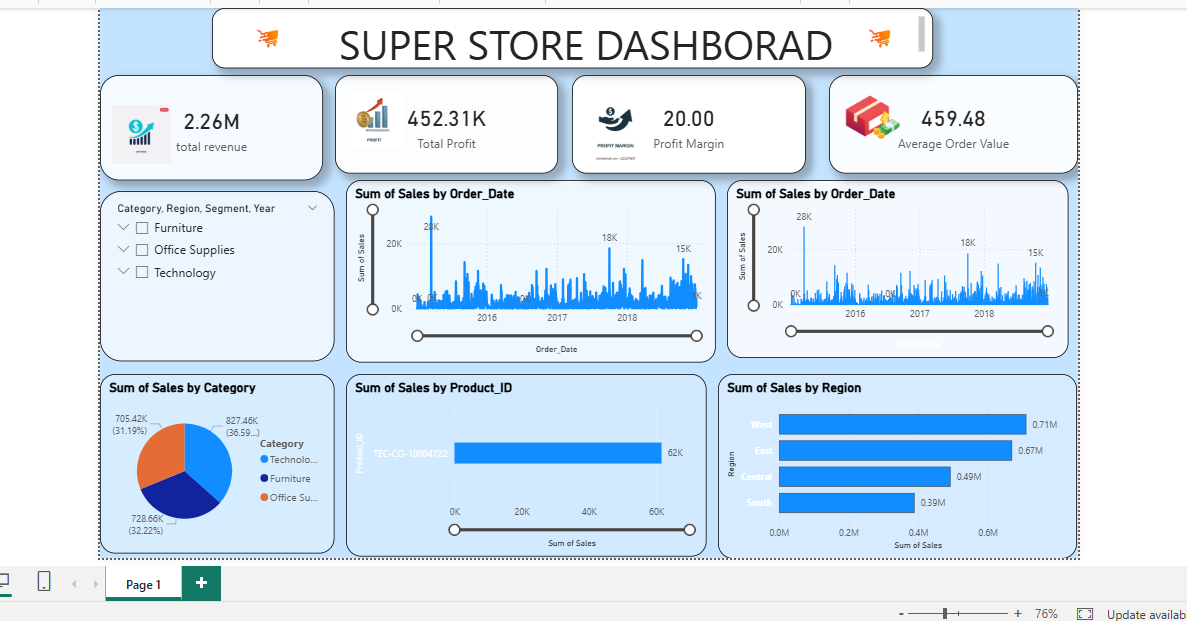

The page's visual inventory and layout, read from the dashboard file:
{"tool":"powerbi","page":{"name":"Page 1","canvas":[1280,720],"ordinal":0},"visuals":[{"type":"lineChart","fields":{"Category":["superstore_final_dataset (1).Order_Date"],"Y":["Sum(superstore_final_dataset (1).Sales)"]},"box":[322.5,225.1,483.8,238.5],"z":0},{"type":"clusteredBarChart","fields":{"Category":["superstore_final_dataset (1).Product_ID"],"Y":["Sum(superstore_final_dataset (1).Sales)"]},"box":[322.5,478.7,472,238.5],"z":1000},{"type":"clusteredBarChart","fields":{"Category":["superstore_final_dataset (1).Region"],"Y":["Sum(superstore_final_dataset (1).Sales)"]},"box":[809.7,478.7,470.3,241.9],"z":2000},{"type":"pieChart","fields":{"Category":["superstore_final_dataset (1).Category"],"Y":["Sum(superstore_final_dataset (1).Sales)"]},"box":[0,478.7,307.4,235.2],"z":3000},{"type":"clusteredColumnChart","fields":{"Category":["superstore_final_dataset (1).Order_Date"],"Y":["Sum(superstore_final_dataset (1).Sales)"]},"box":[821.4,225.1,446.8,233.5],"z":4000},{"type":"slicer","fields":{"Values":["superstore_final_dataset (1).Category","superstore_final_dataset (1).Region","superstore_final_dataset (1).Segment","superstore_final_dataset (1).Order_Date.Variation.Date Hierarchy.Year"]},"box":[0,240.2,307.4,223.4],"z":5000},{"type":"card","fields":{"Values":["superstore_final_dataset (1).total revenue"]},"box":[0,87.3,292.3,137.7],"z":6000},{"type":"card","fields":{"Values":["superstore_final_dataset (1).Total Profit"]},"box":[307.4,87.3,292.3,129.3],"z":7000},{"type":"card","fields":{"Values":["superstore_final_dataset (1).Profit Margin"]},"box":[618.2,87.3,305.7,129.3],"z":8000},{"type":"card","fields":{"Values":["superstore_final_dataset (1).Average Order Value"]},"box":[954.1,87.3,325.9,129.3],"z":9000},{"type":"textbox","box":[146.1,0,944,79],"z":10000},{"type":"image","box":[965.9,6.7,109.2,67.2],"z":11000},{"type":"image","box":[131,6.7,176.4,67.2],"z":12000},{"type":"image","box":[15.1,114.2,77.3,102.5],"z":13000},{"type":"image","box":[322.5,92.4,73.9,107.5],"z":14000},{"type":"image","box":[618.2,105.8,114.2,94.1],"z":15000},{"type":"image","box":[934,92.4,156.2,99.1],"z":16000}]}

Visuals, with their boxes on the page's 1280x720 design canvas (x1, y1, x2, y2). These are canvas units, not pixel positions in the 1187x621 screenshot, which may show the page scaled, cropped or inside an application window:
lineChart - superstore_final_dataset (1).Order_Date x Sum(superstore_final_dataset (1).Sales): l=322, t=225, r=806, b=464
clusteredBarChart - superstore_final_dataset (1).Product_ID x Sum(superstore_final_dataset (1).Sales): l=322, t=479, r=794, b=717
clusteredBarChart - superstore_final_dataset (1).Region x Sum(superstore_final_dataset (1).Sales): l=810, t=479, r=1280, b=721
pieChart - superstore_final_dataset (1).Category x Sum(superstore_final_dataset (1).Sales): l=0, t=479, r=307, b=714
clusteredColumnChart - superstore_final_dataset (1).Order_Date x Sum(superstore_final_dataset (1).Sales): l=821, t=225, r=1268, b=459
slicer - superstore_final_dataset (1).Category x superstore_final_dataset (1).Region: l=0, t=240, r=307, b=464
card - superstore_final_dataset (1).total revenue: l=0, t=87, r=292, b=225
card - superstore_final_dataset (1).Total Profit: l=307, t=87, r=600, b=217
card - superstore_final_dataset (1).Profit Margin: l=618, t=87, r=924, b=217
card - superstore_final_dataset (1).Average Order Value: l=954, t=87, r=1280, b=217
textbox: l=146, t=0, r=1090, b=79
image: l=966, t=7, r=1075, b=74
image: l=131, t=7, r=307, b=74
image: l=15, t=114, r=92, b=217
image: l=322, t=92, r=396, b=200
image: l=618, t=106, r=732, b=200
image: l=934, t=92, r=1090, b=192
